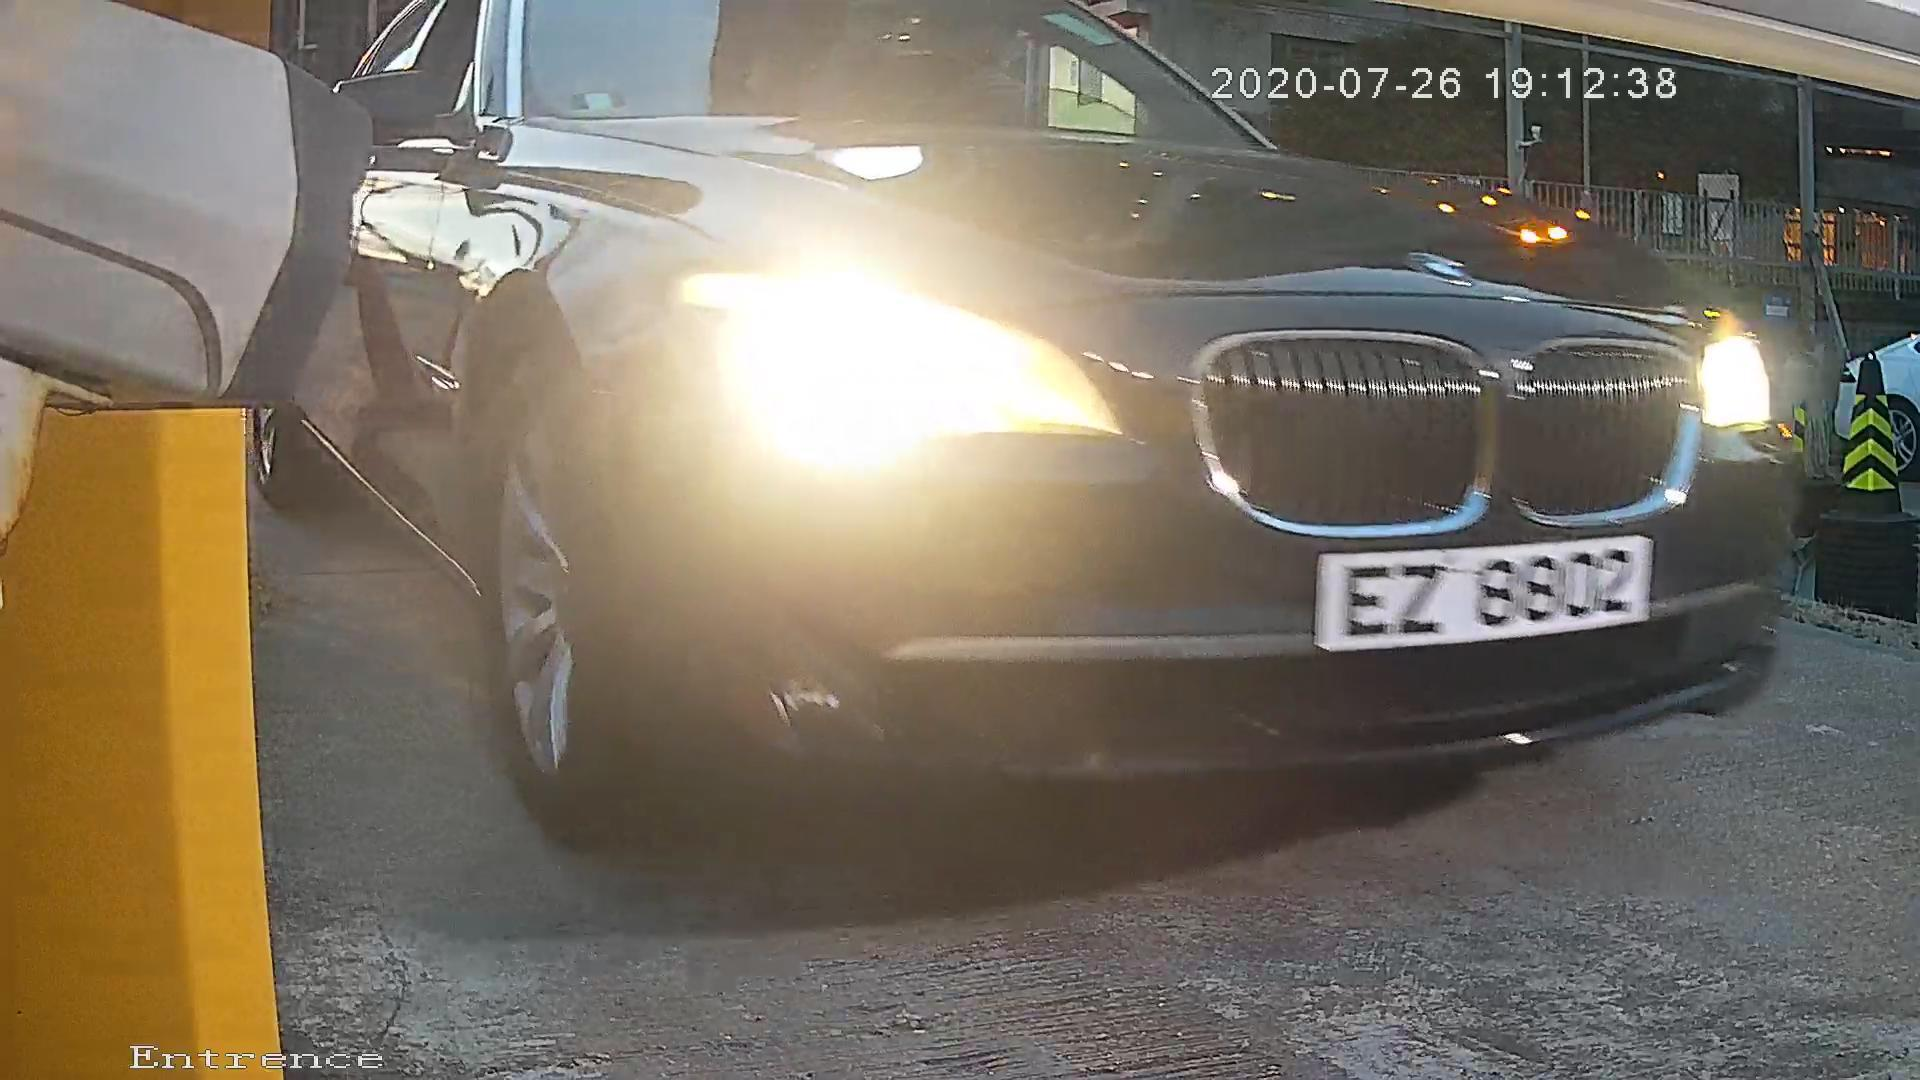License Plate: (1292, 526, 1663, 669)
